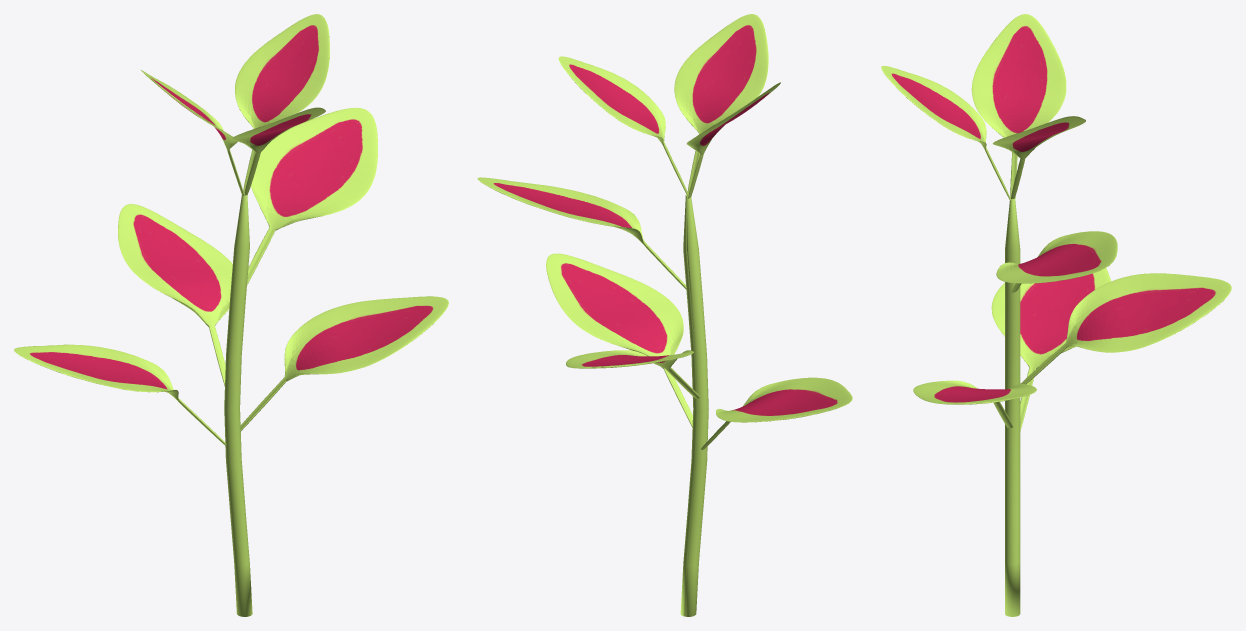
The picture shows the model from 3 angles, left to right: view 1: azimuth 30°, elevation 25°; view 2: azimuth 150°, elevation 25°; view 3: azimuth 270°, elevation 25°; orthographic projection.
Visible parts, largest first — view 1: f19; view 2: f19; view 3: f19.
Part boxes in pixels (bbox=[...]): f19: bbox=[14, 14, 448, 616]; f19: bbox=[477, 14, 852, 616]; f19: bbox=[881, 14, 1231, 616].
Bounding box in the file's own units: 0.4206 × 0.6163 × 0.354.
Materials: 4 (3 with a texture image).
